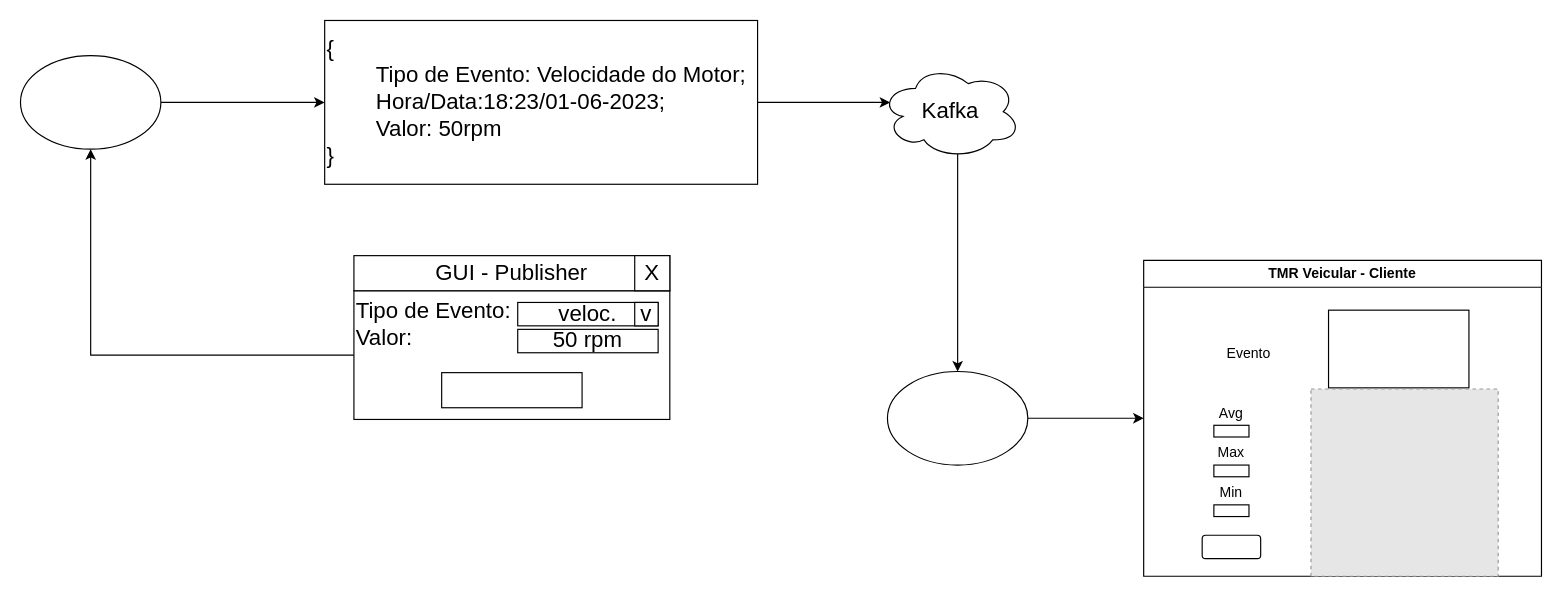
Some shapes in this 1562 by 597 pixel diagram are drawn without their labels. Grey dashed boxes stand in for pictures. The centre of each missing label's shape, as x and y in pixels:
"Consumer" belongs at (957,417).
"Publicar" belongs at (511,389).
"Publisher" belongs at (90,101).
"Salvar" belongs at (1231,546).
"Velocidade Quilometragem GPS ......" belongs at (1398,348).
